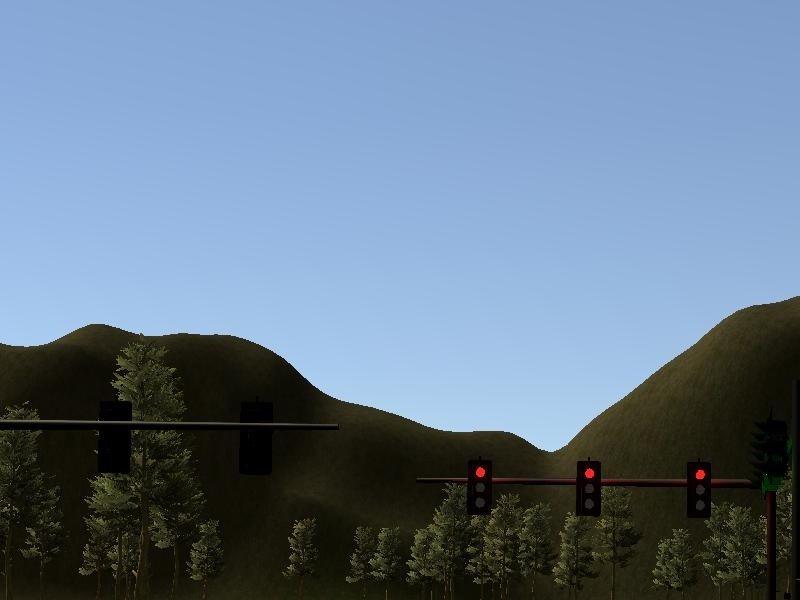Red: (684, 460, 714, 520), (466, 456, 495, 517), (574, 458, 603, 518)
